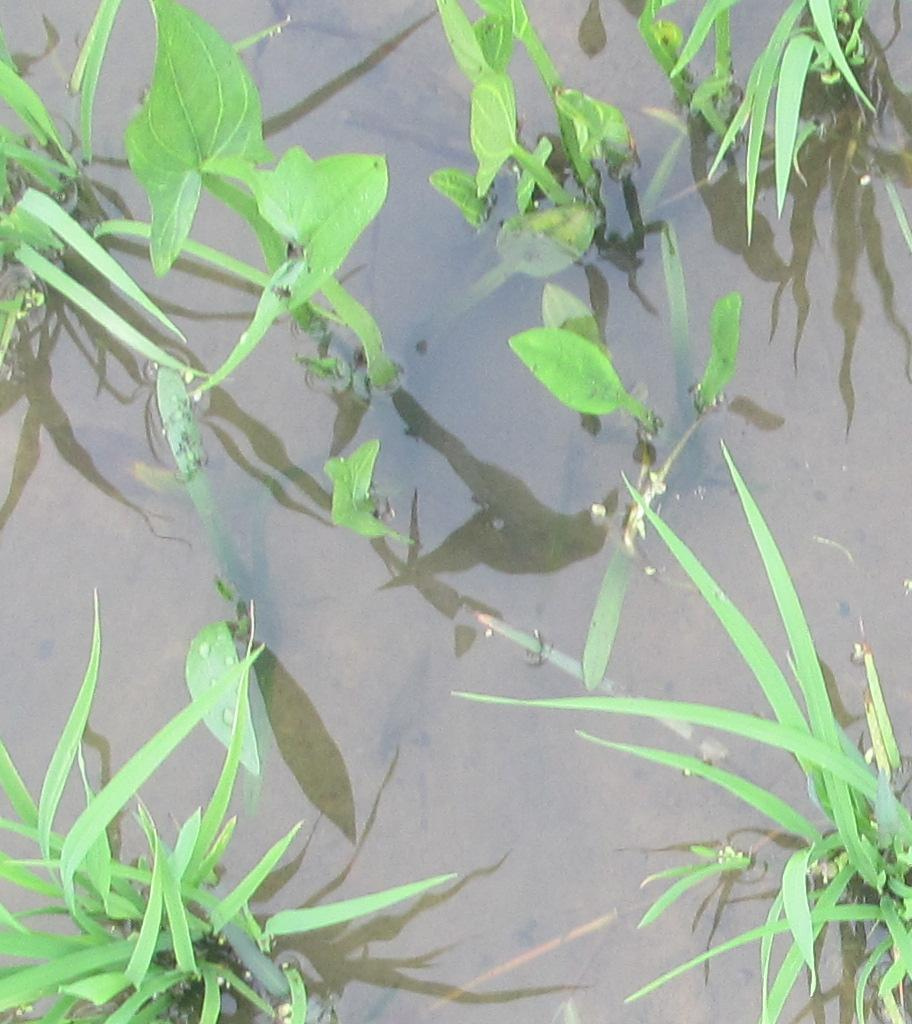Weed: (455, 61, 649, 275), (138, 2, 267, 260), (266, 150, 391, 324), (507, 322, 630, 427)
